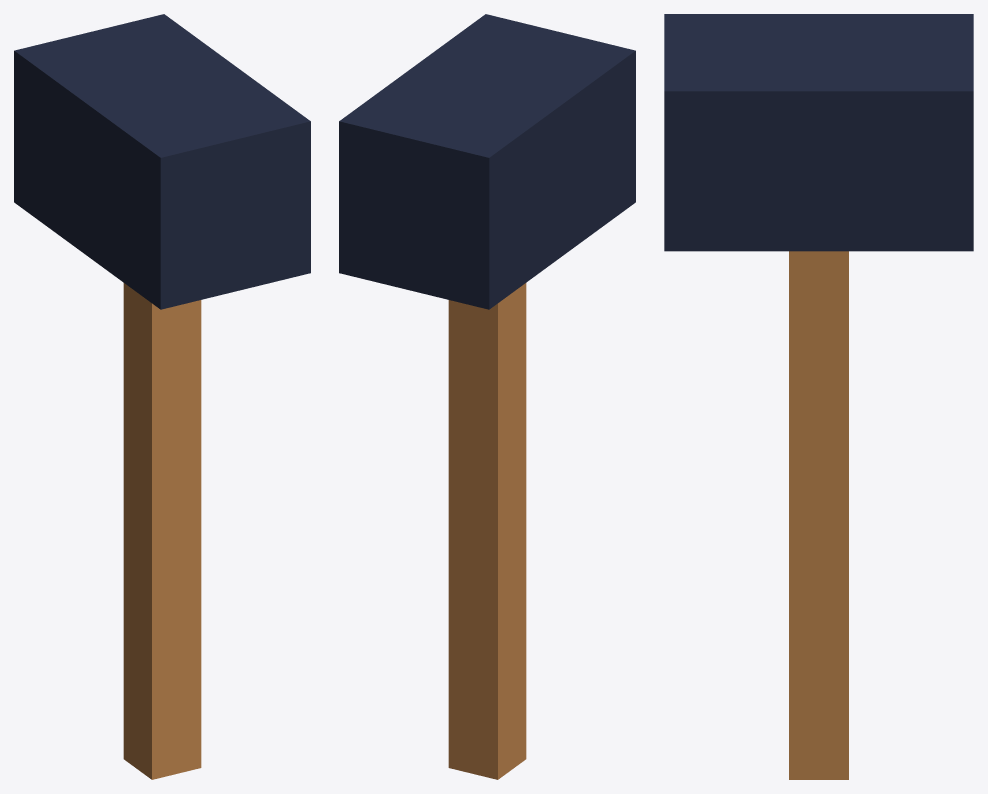
File: Hammer.fbx
The picture shows the model from 3 angles, left to right: view 1: azimuth 30°, elevation 25°; view 2: azimuth 150°, elevation 25°; view 3: azimuth 270°, elevation 25°; orthographic projection. The views are drawn at different scales.
Parts seen in each view (by area): view 1: vorschlaghammer; view 2: vorschlaghammer; view 3: vorschlaghammer.
Boxes of the visible parts, bbox=[...] form: vorschlaghammer: bbox=[14, 14, 310, 779]; vorschlaghammer: bbox=[339, 14, 635, 779]; vorschlaghammer: bbox=[664, 14, 973, 779].
Size of the model in its own units: 304 by 1312 by 515.
